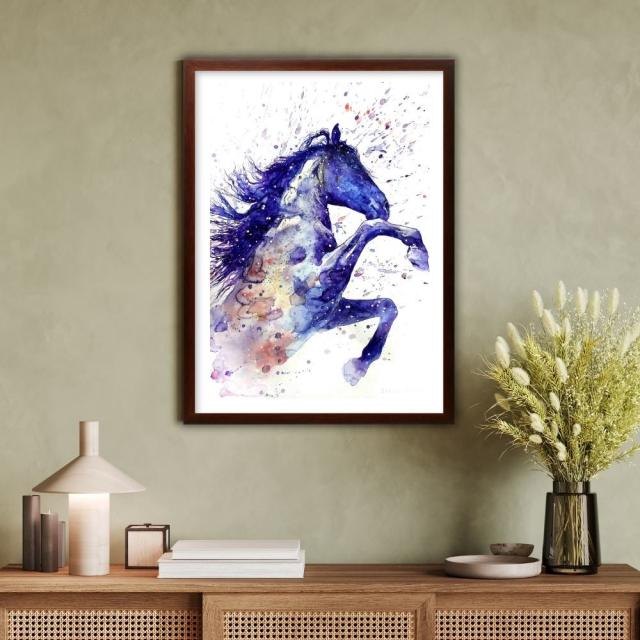painting: (182, 58, 457, 423)
